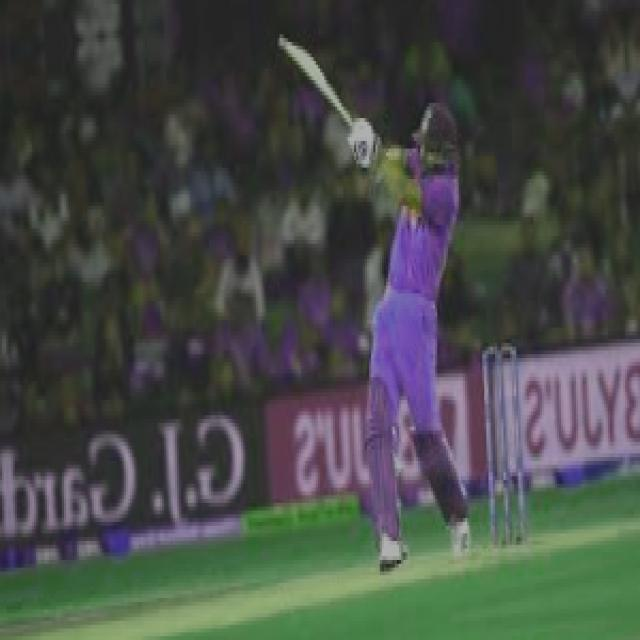toe: (273, 34, 299, 58)
